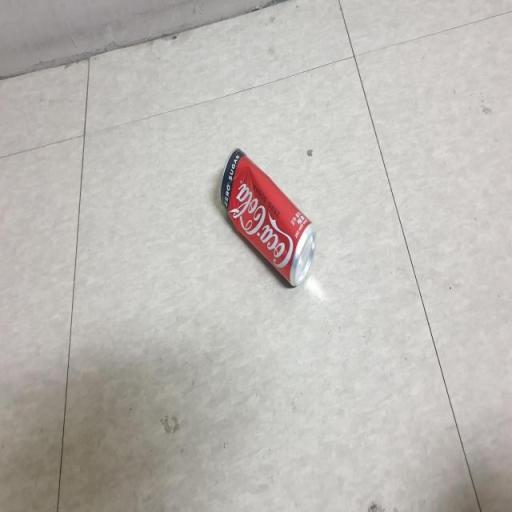metal: (218, 144, 330, 345)
